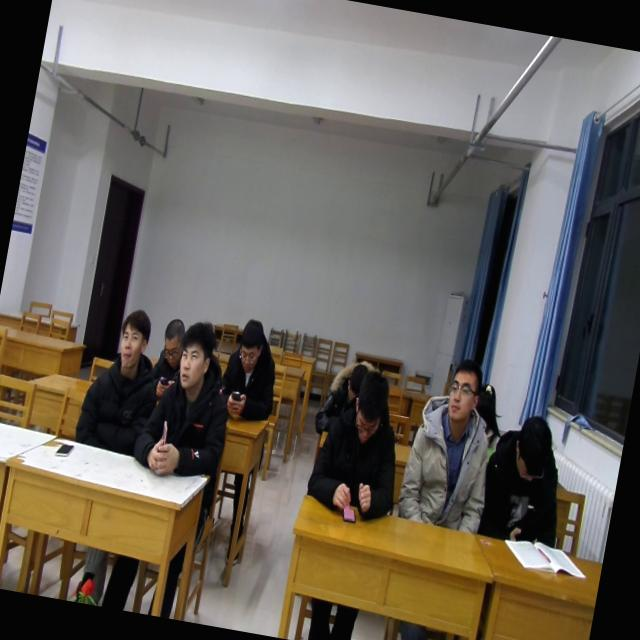bow: (213, 314, 290, 428), (310, 349, 382, 442), (143, 314, 190, 406)
down: (504, 408, 558, 488), (345, 368, 395, 448), (231, 310, 269, 374), (335, 355, 369, 401), (156, 314, 186, 364)
lookup: (169, 312, 221, 394), (440, 354, 485, 428), (112, 299, 153, 372)
sit: (392, 350, 509, 540), (126, 313, 246, 489), (302, 361, 418, 528), (68, 299, 167, 465), (474, 405, 578, 550)
